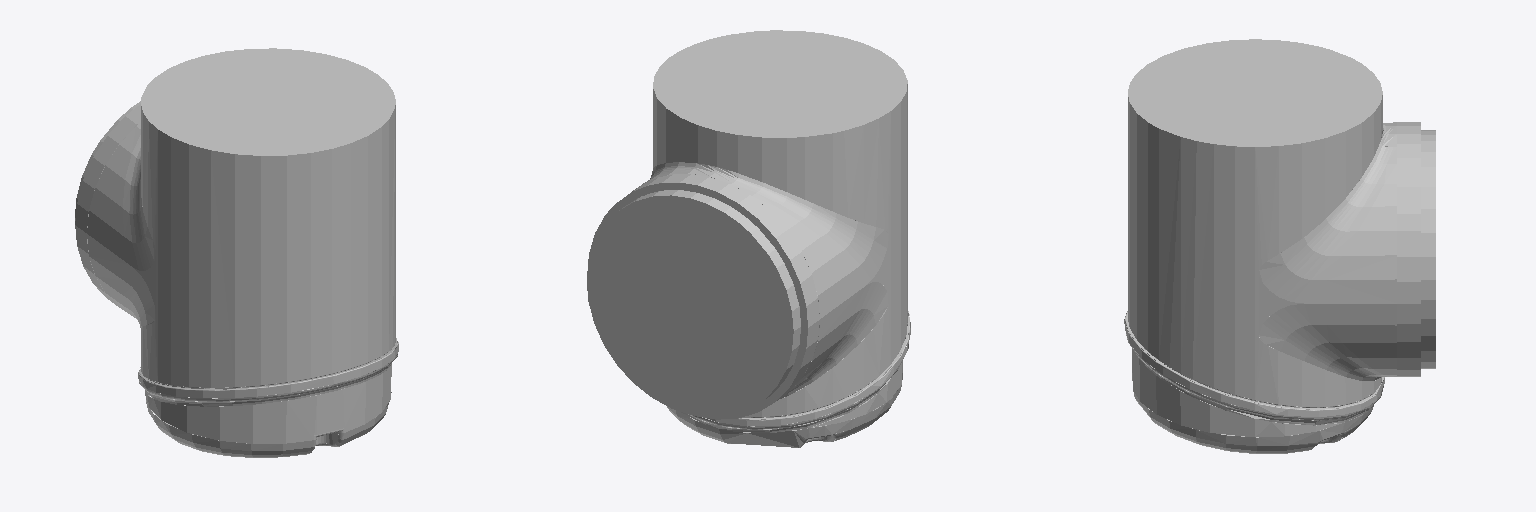
File: WRIST2_m2.obj
3 renders of one model, left to right at view 1: azimuth 30°, elevation 25°; view 2: azimuth 150°, elevation 25°; view 3: azimuth 270°, elevation 25°, orthographic.
Bounding box in the file's own units: 0.0644 × 0.0887 × 0.0768.